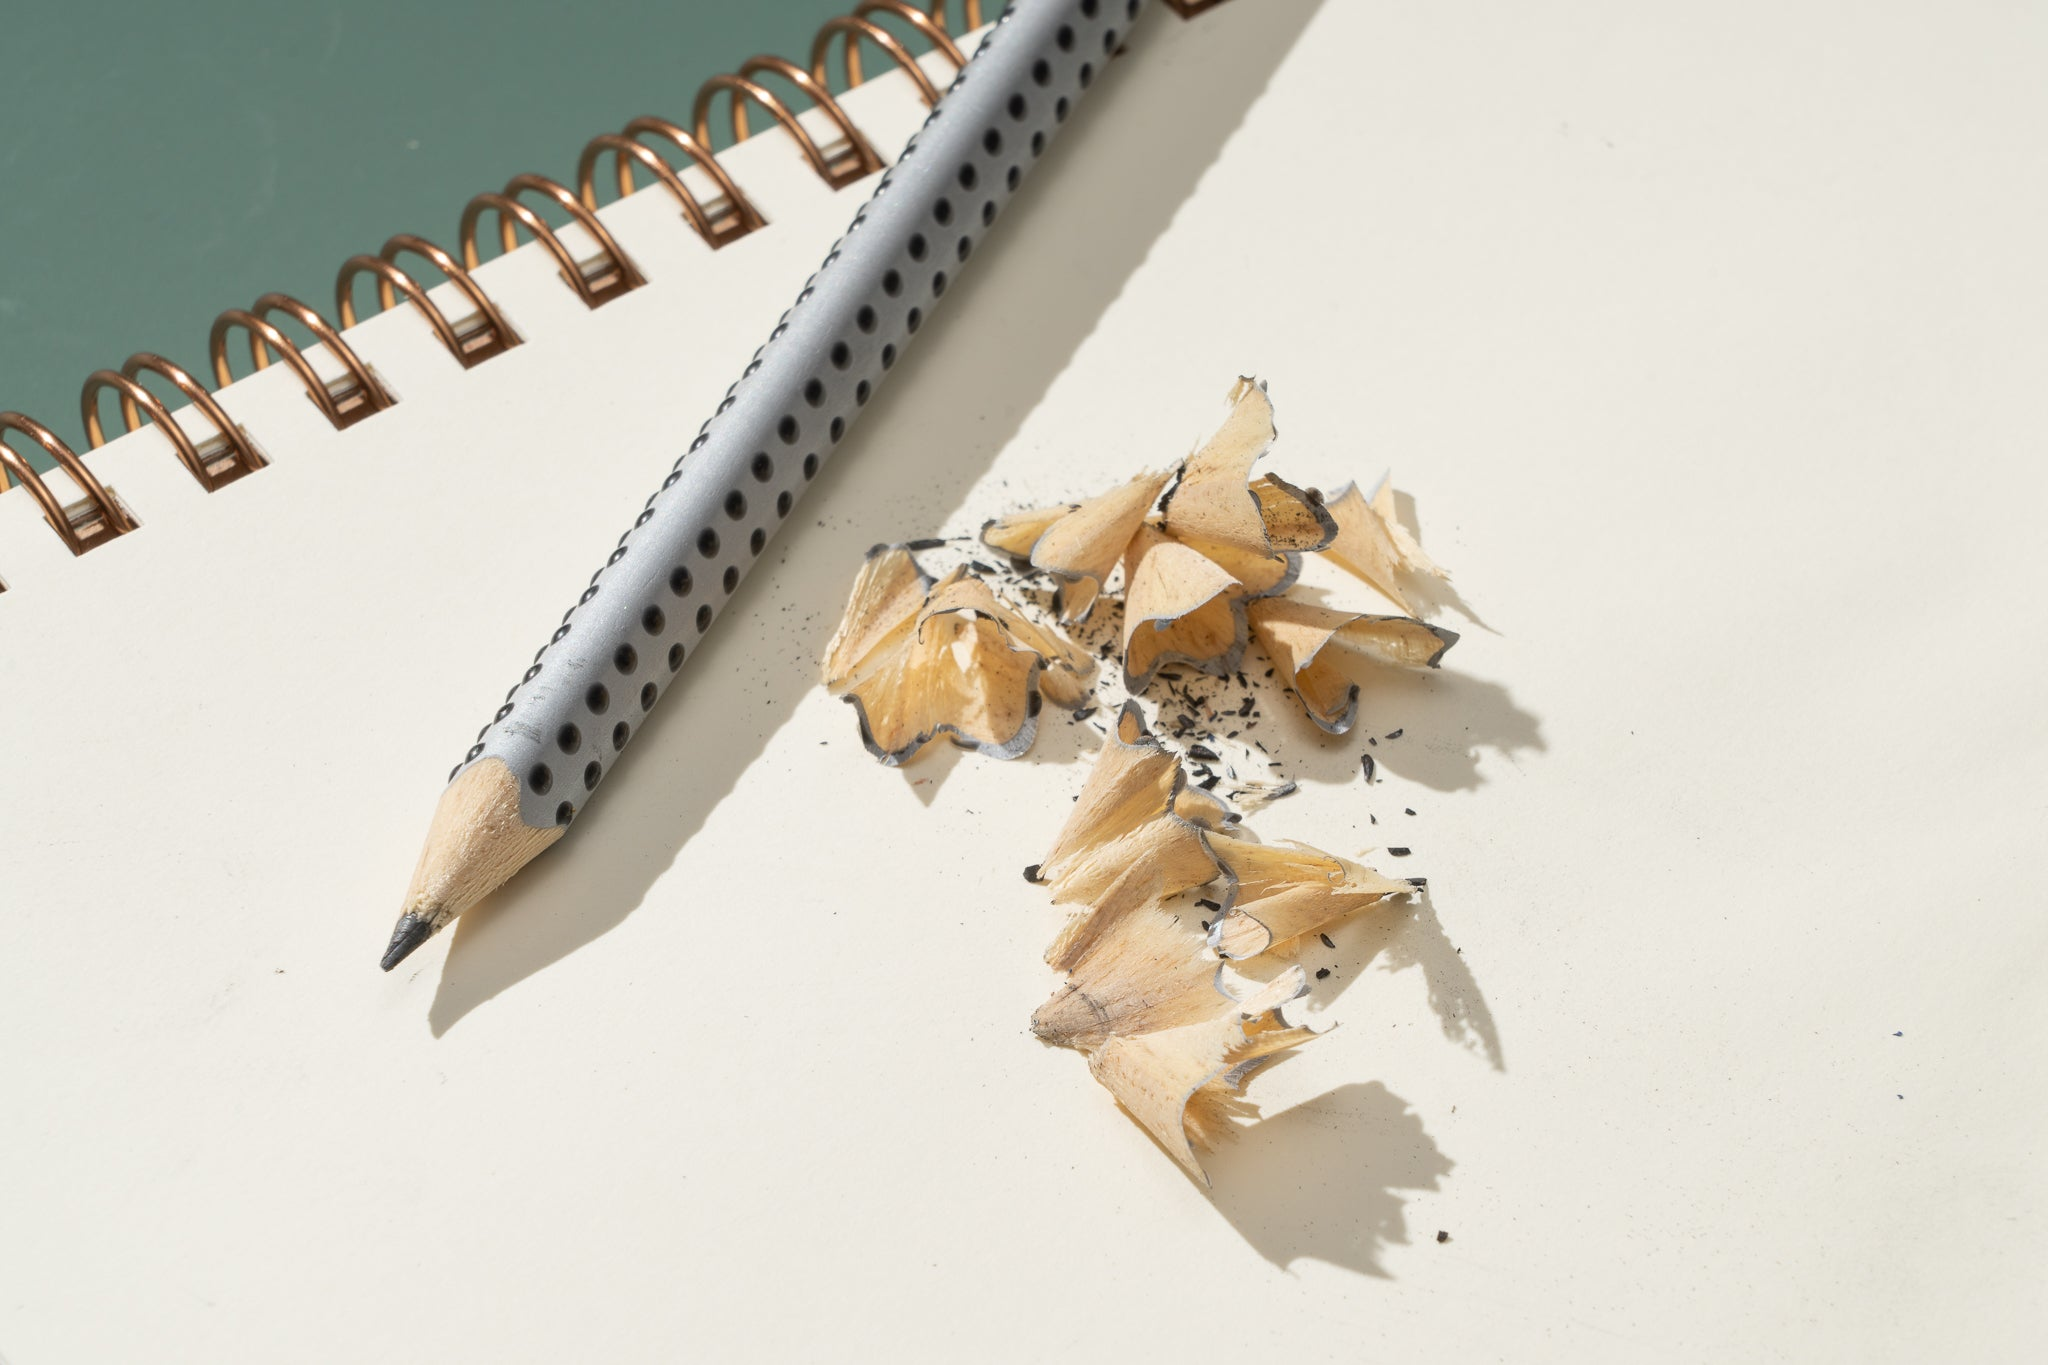pencil: (327, 18, 1233, 999)
